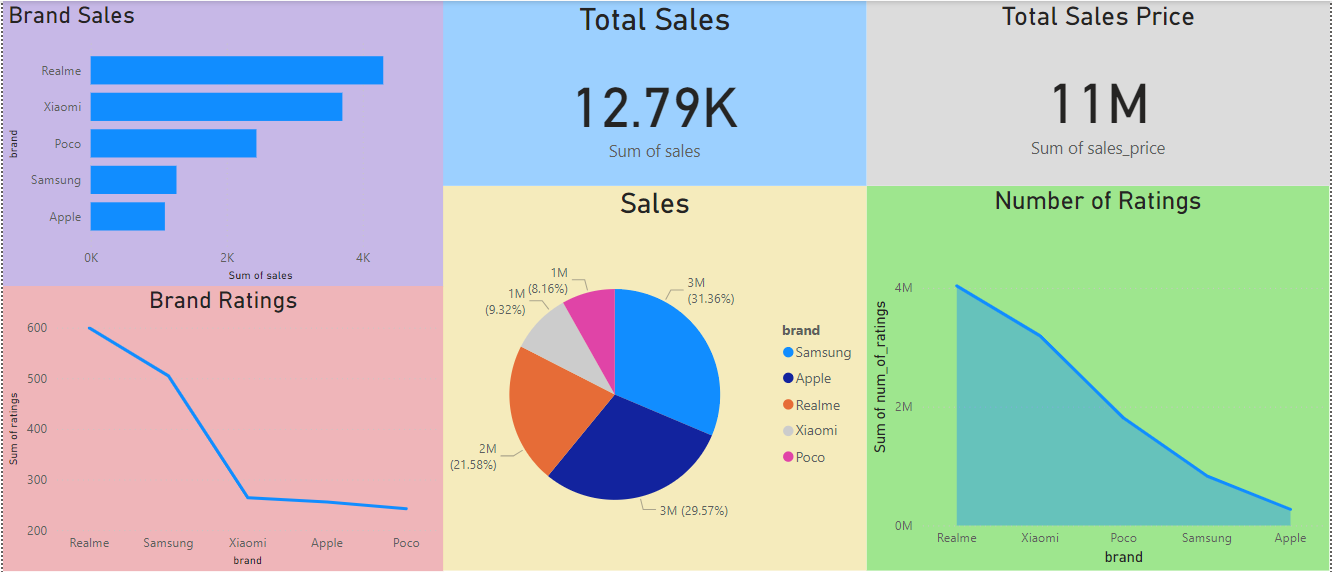

The page's visual inventory and layout, read from the dashboard file:
{"tool":"powerbi","page":{"name":"Page 1","canvas":[1280,720],"ordinal":0},"visuals":[{"type":"card","title":"Total Sales","fields":{"Values":["Sum(Flipkart Mobile - 2.sales)"]},"box":[425,0,408.6,178.2],"z":0},{"type":"barChart","title":"Brand Sales","fields":{"Category":["Flipkart Mobile - 2.brand"],"Y":["Sum(Flipkart Mobile - 2.sales)"]},"box":[0,0,425,275.6],"z":1000},{"type":"lineChart","title":"Brand Ratings","fields":{"Category":["Flipkart Mobile - 2.brand"],"Y":["Sum(Flipkart Mobile - 2.ratings)"]},"box":[0,275.6,425,275.6],"z":2000},{"type":"pieChart","title":"Sales","fields":{"Category":["Flipkart Mobile - 2.brand"],"Y":["Sum(Flipkart Mobile - 2.sales_price)"]},"box":[424.7,178.6,409,361.9],"z":3000},{"type":"card","title":"Total Sales Price","fields":{"Values":["Sum(Flipkart Mobile - 2.sales_price)"]},"box":[833.6,0,447,178.2],"z":4000},{"type":"areaChart","title":"Number of Ratings","fields":{"Category":["Flipkart Mobile - 2.brand"],"Y":["Sum(Flipkart Mobile - 2.num_of_ratings)"]},"box":[833.6,178.2,447,362],"z":5000}]}

Visuals, with their boxes on the page's 1280x720 design canvas (x1, y1, x2, y2). These are canvas units, not pixel positions in the 1332x572 screenshot, which may show the page scaled, cropped or inside an application window:
"Total Sales" card: [425,0,834,178]
"Brand Sales" barChart: [0,0,425,276]
"Brand Ratings" lineChart: [0,276,425,551]
"Sales" pieChart: [425,179,834,540]
"Total Sales Price" card: [834,0,1281,178]
"Number of Ratings" areaChart: [834,178,1281,540]
